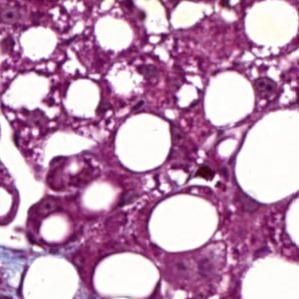steatosis: (149, 193, 220, 256), (93, 247, 160, 299), (19, 252, 80, 299)
